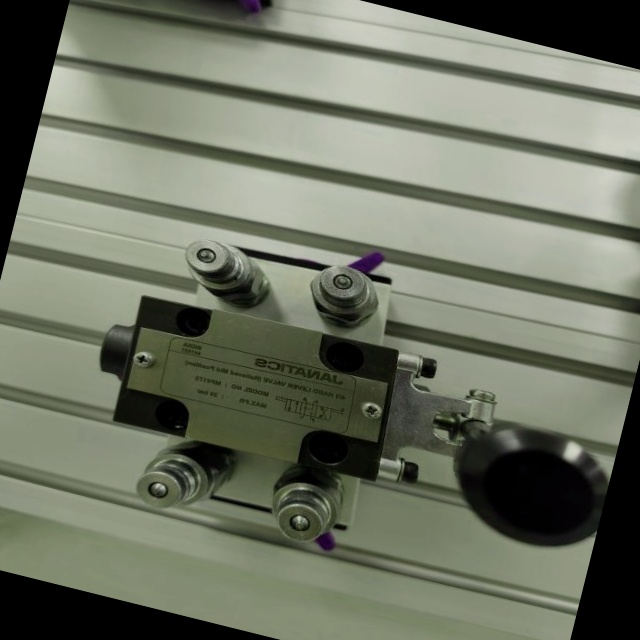4by3 hand lever valve: (55, 182, 640, 630)
